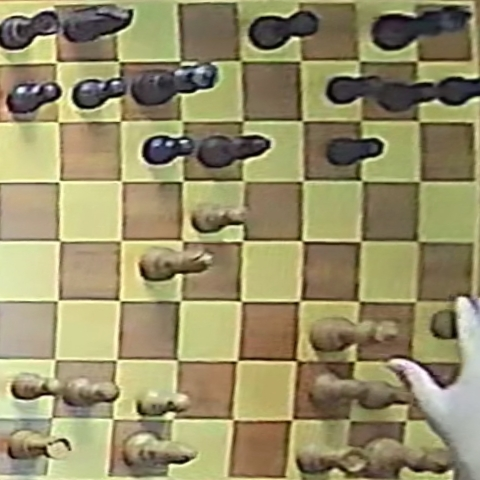black-bishop: (196, 135, 269, 168)
black-king: (372, 6, 470, 51)
black-knight: (61, 4, 132, 43)
black-pawn: (6, 81, 61, 116), (381, 80, 440, 112), (328, 75, 386, 107), (73, 77, 125, 110), (326, 137, 384, 166), (143, 135, 196, 165), (438, 73, 480, 108)
black-queen: (131, 63, 217, 105)
black-rook: (251, 10, 319, 50), (1, 10, 61, 50)
white-bishop: (123, 431, 196, 468), (140, 245, 213, 281)
white-king: (364, 437, 449, 475)
white-pawn: (310, 373, 370, 410), (356, 379, 414, 409), (192, 202, 248, 232), (64, 377, 119, 407), (11, 372, 62, 400), (137, 390, 189, 417)
white-queen: (310, 317, 397, 350)
white-rook: (298, 442, 369, 475), (7, 431, 71, 461)
